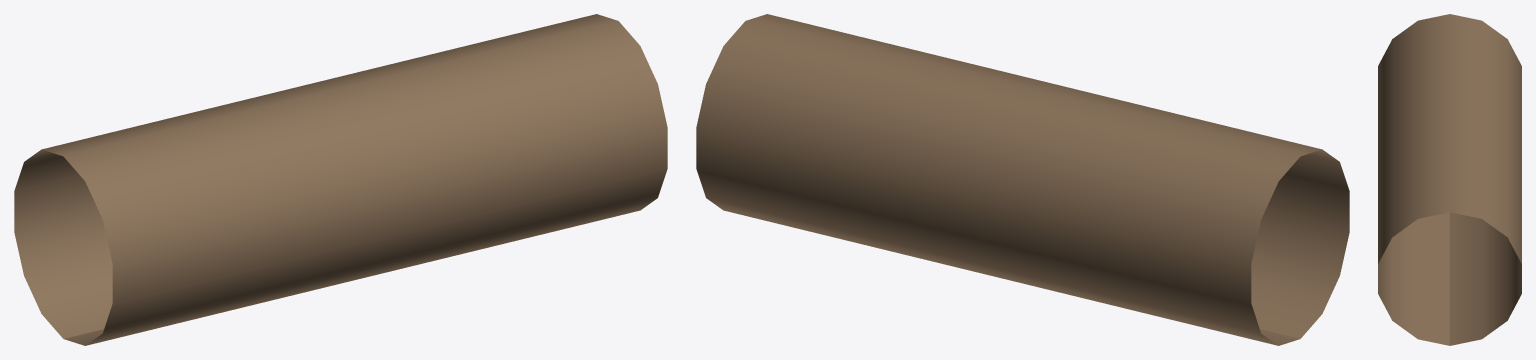
File: Log.glb
3 renders of one model, left to right at view 1: azimuth 30°, elevation 25°; view 2: azimuth 150°, elevation 25°; view 3: azimuth 270°, elevation 25°, orthographic. The views are drawn at different scales.
Parts seen in each view (by area): view 1: Log.001; view 2: Log.001; view 3: Log.001.
Boxes of the visible parts, x1,y1,x2,y2 form: Log.001: (14, 14, 667, 345); Log.001: (696, 14, 1349, 345); Log.001: (1378, 14, 1521, 345).
Bounding box in the file's own units: 1.4 × 0.44 × 0.429.
